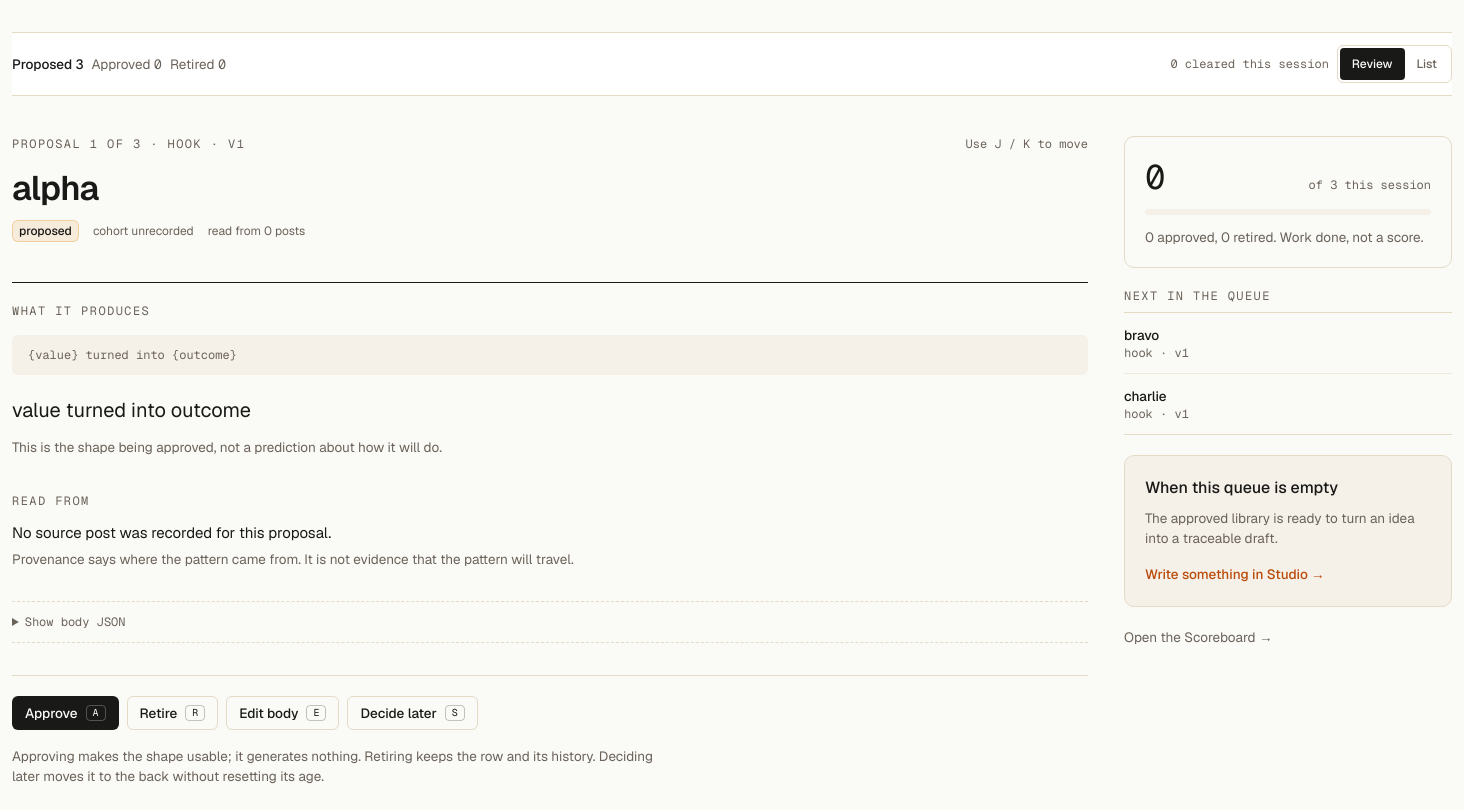
Test: approve and retire › approves the template on screen, at its own url
Click the button "Approve A". click: x=65, y=713
box: [12,696,118,730]
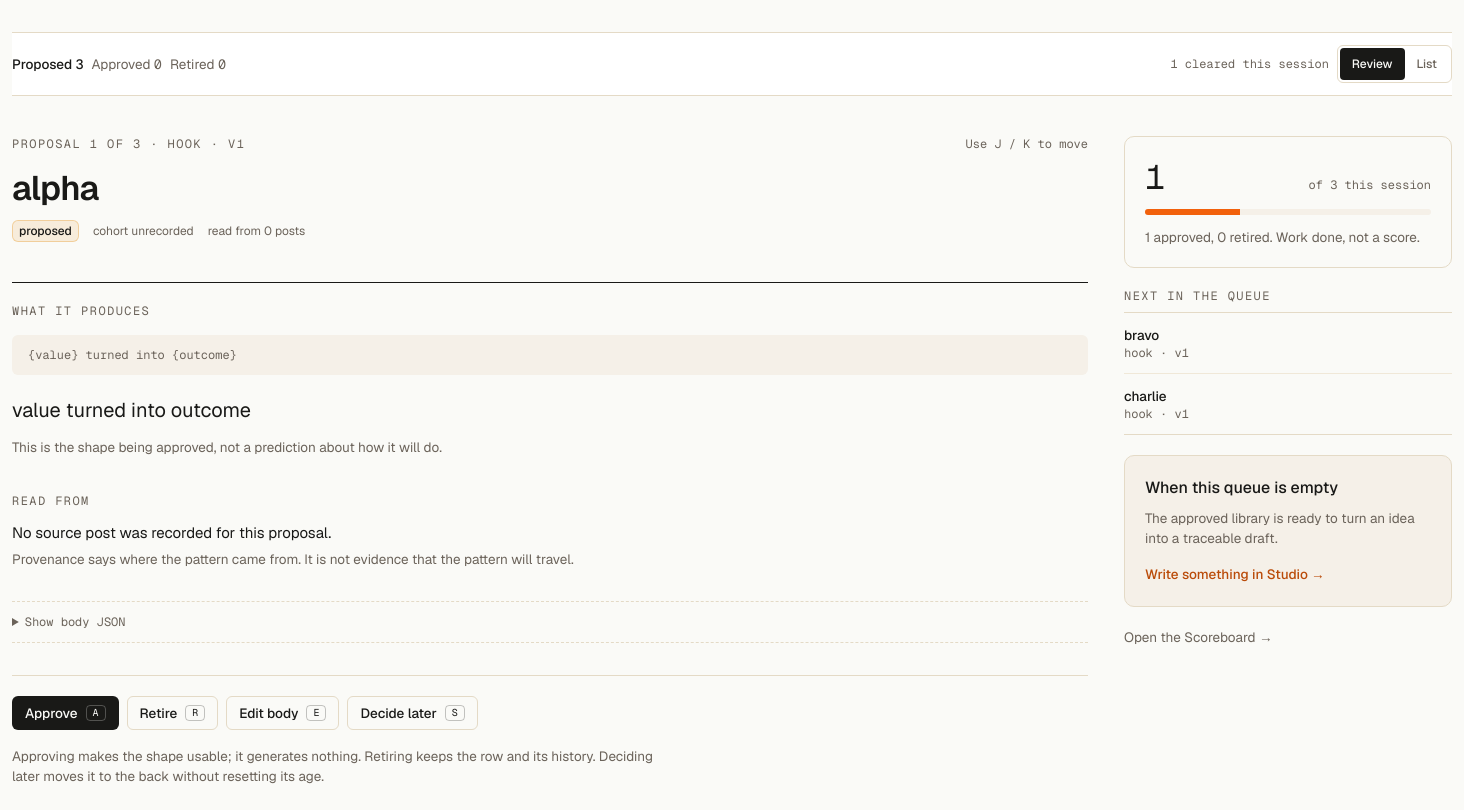
Expected: the text "1 approved, 0 retired. Work done, not a score." is shown, [1145,227,1431,247]
